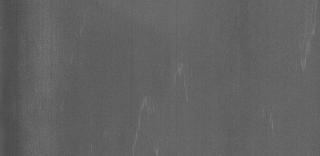silk spot: (130, 56, 196, 156)
